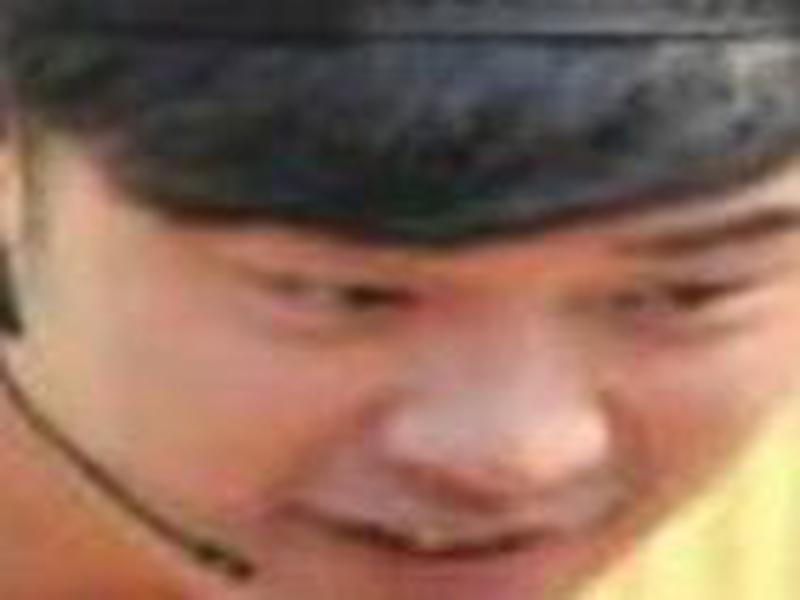without_mask: (16, 21, 795, 600)
